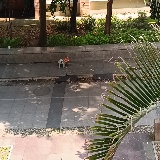fire: (62, 57, 69, 63)
